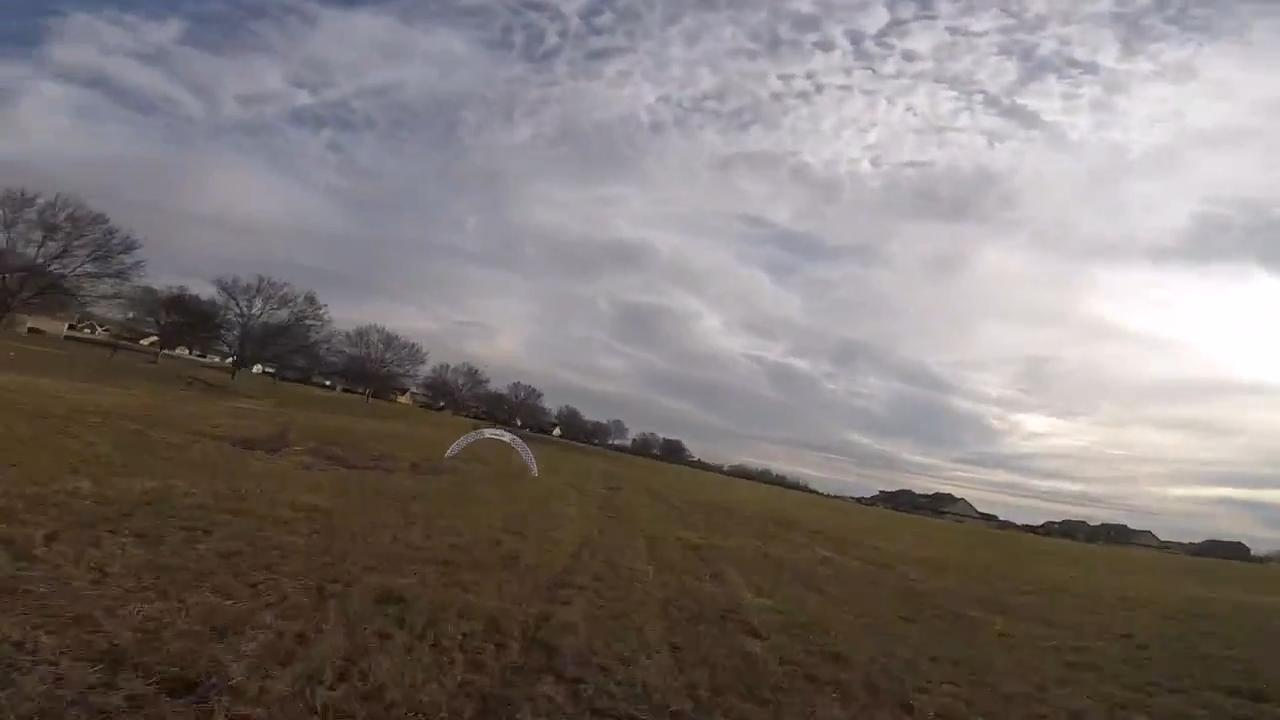gate: (441, 425, 539, 479)
